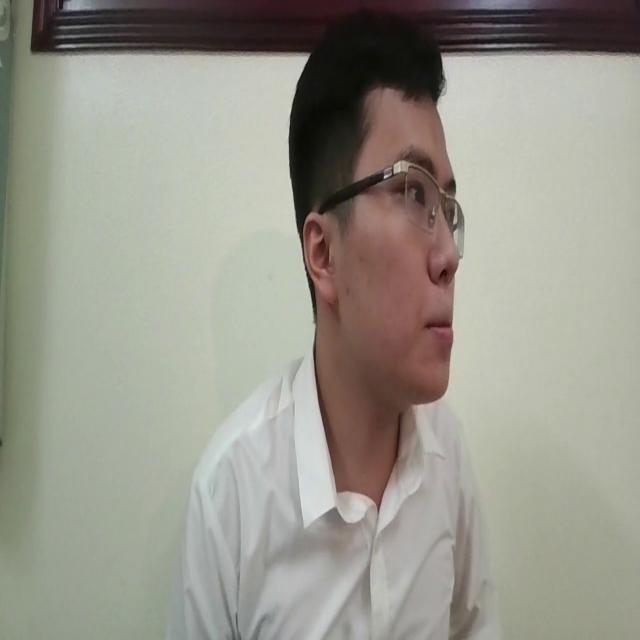student: (166, 0, 506, 640)
